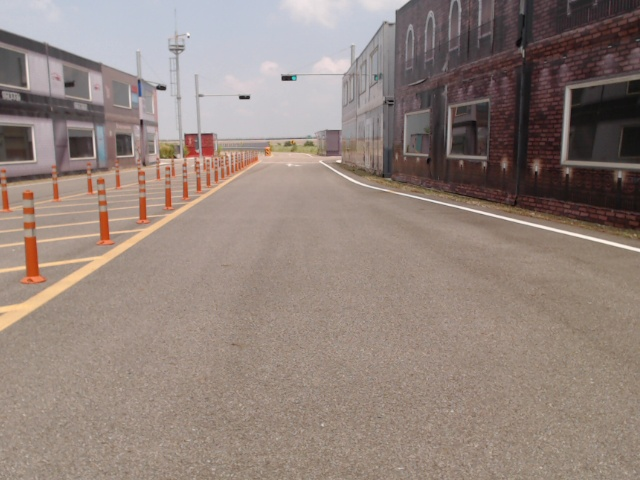green_3: (281, 75, 297, 82)
